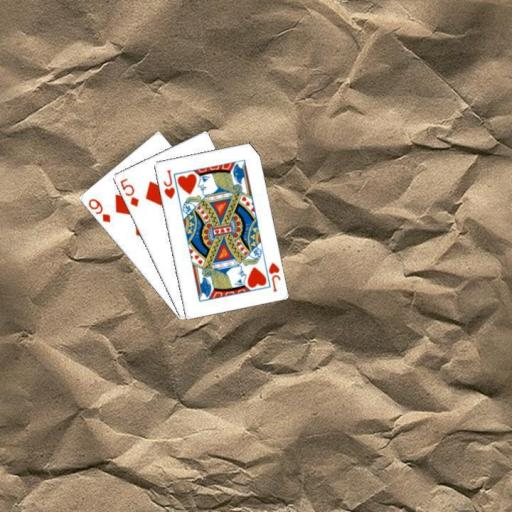card-corner: (84, 196, 112, 224), (117, 175, 140, 208), (265, 260, 282, 293), (160, 166, 176, 200)
